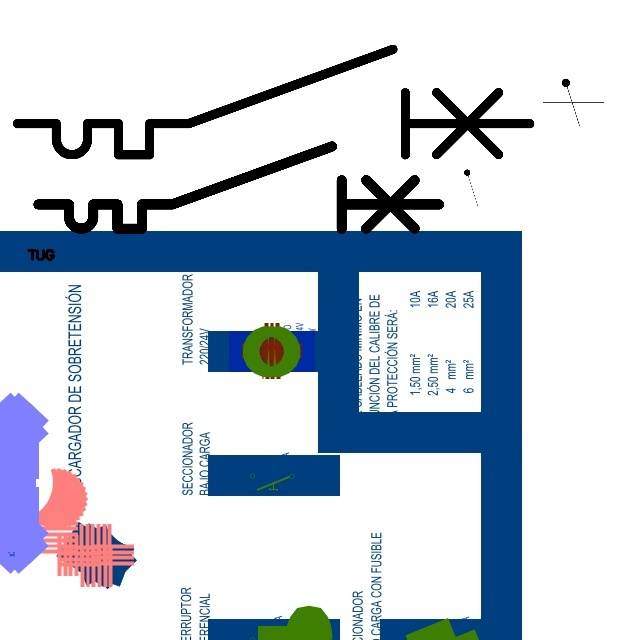interruptor_termomagnetico: (4, 36, 543, 168), (28, 136, 449, 239)
